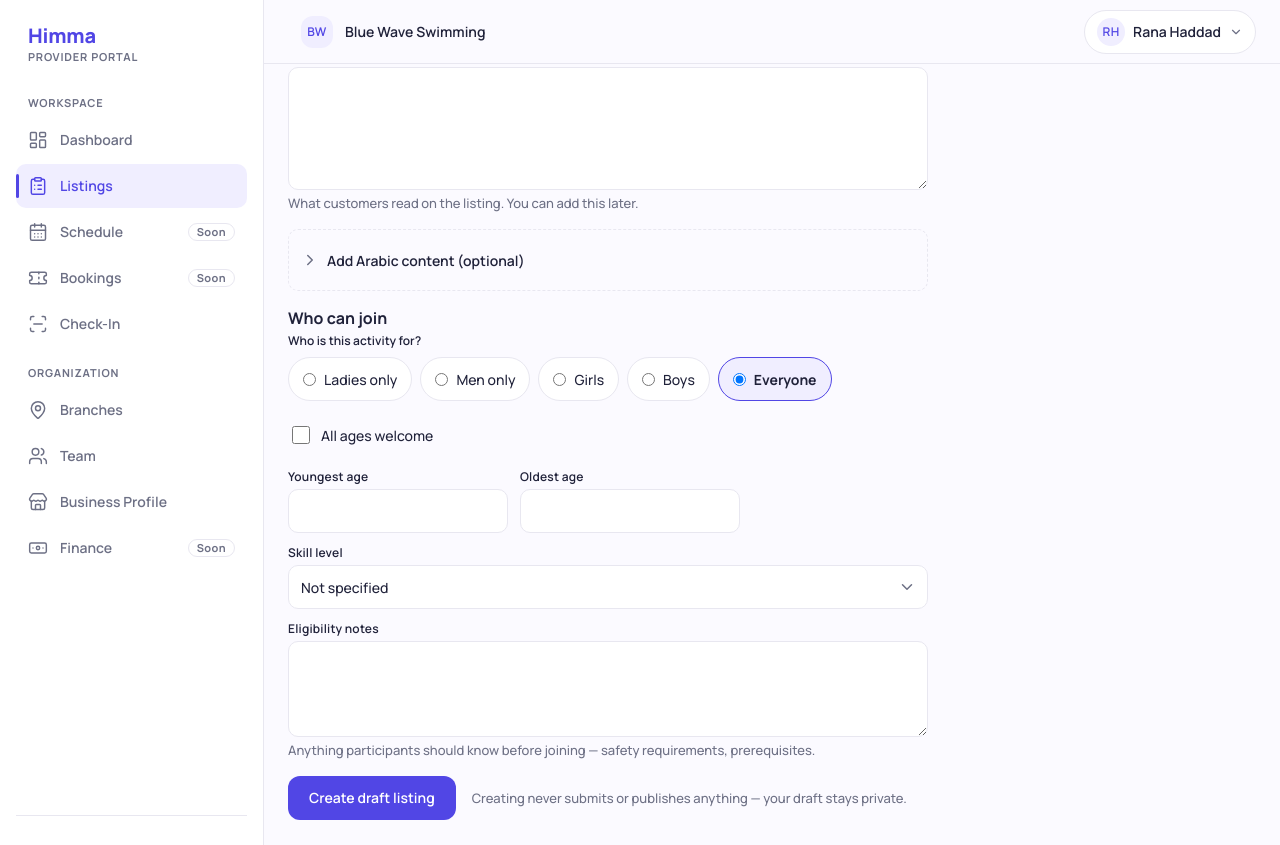
Test: listing creation (W2-8 + interaction-model correction) › client validation mirrors the real contract: English title and activity type are the structural requirements
(page scrolled)
Step 1. Click the button "Create draft listing" → (372, 798), box [288,776,456,820]
(page scrolled)
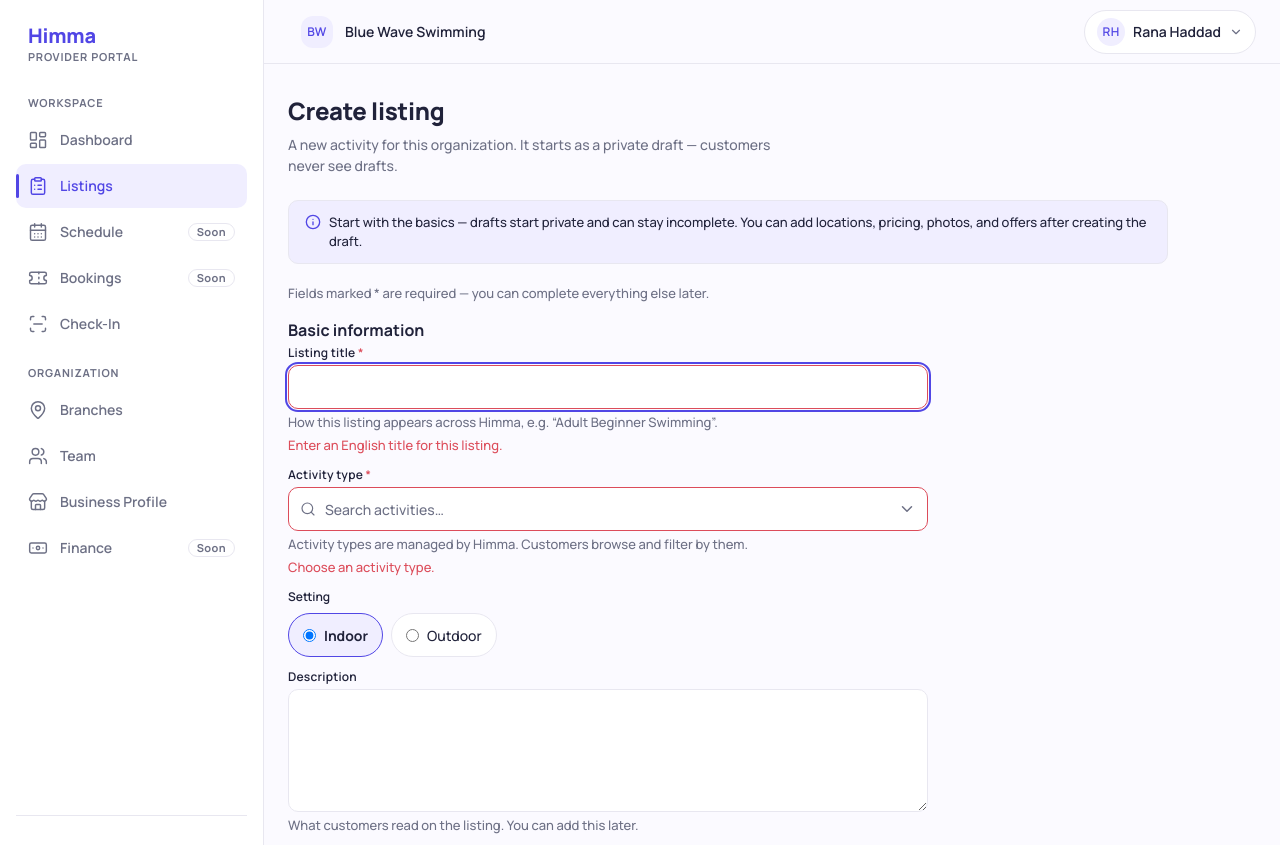
expect the text "Enter an English title for this listing." is shown: met, box [288,436,502,454]
expect the text "Choose an activity type." is shown: met, box [288,558,435,576]
